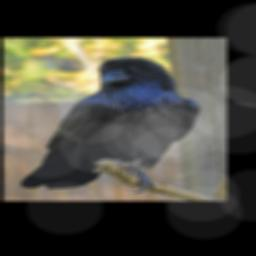Crow: (21, 56, 200, 193)
